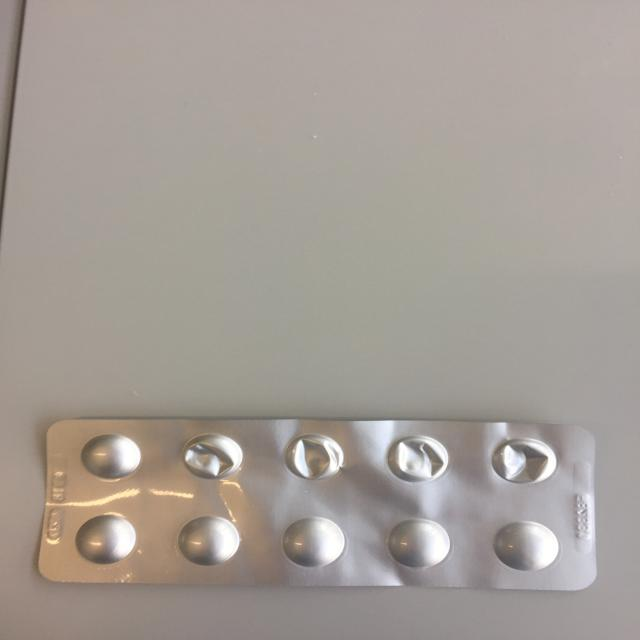Empty: (489, 436, 567, 486), (174, 430, 247, 481), (279, 432, 350, 482), (385, 434, 453, 484)
Pill: (486, 516, 569, 576), (278, 515, 356, 570), (70, 511, 144, 565), (174, 513, 246, 568), (385, 517, 459, 569), (76, 432, 148, 481)
